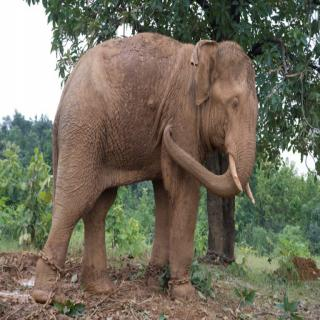Elephant: (32, 28, 260, 307)
